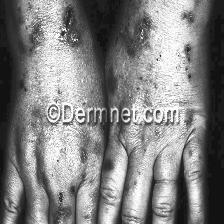Benign Marking or Mole: (57, 5, 82, 54), (122, 22, 156, 54), (176, 38, 198, 82), (53, 185, 73, 224), (26, 22, 46, 55), (104, 68, 125, 97), (76, 148, 94, 165), (184, 106, 196, 126), (104, 158, 116, 177), (18, 80, 29, 98)
